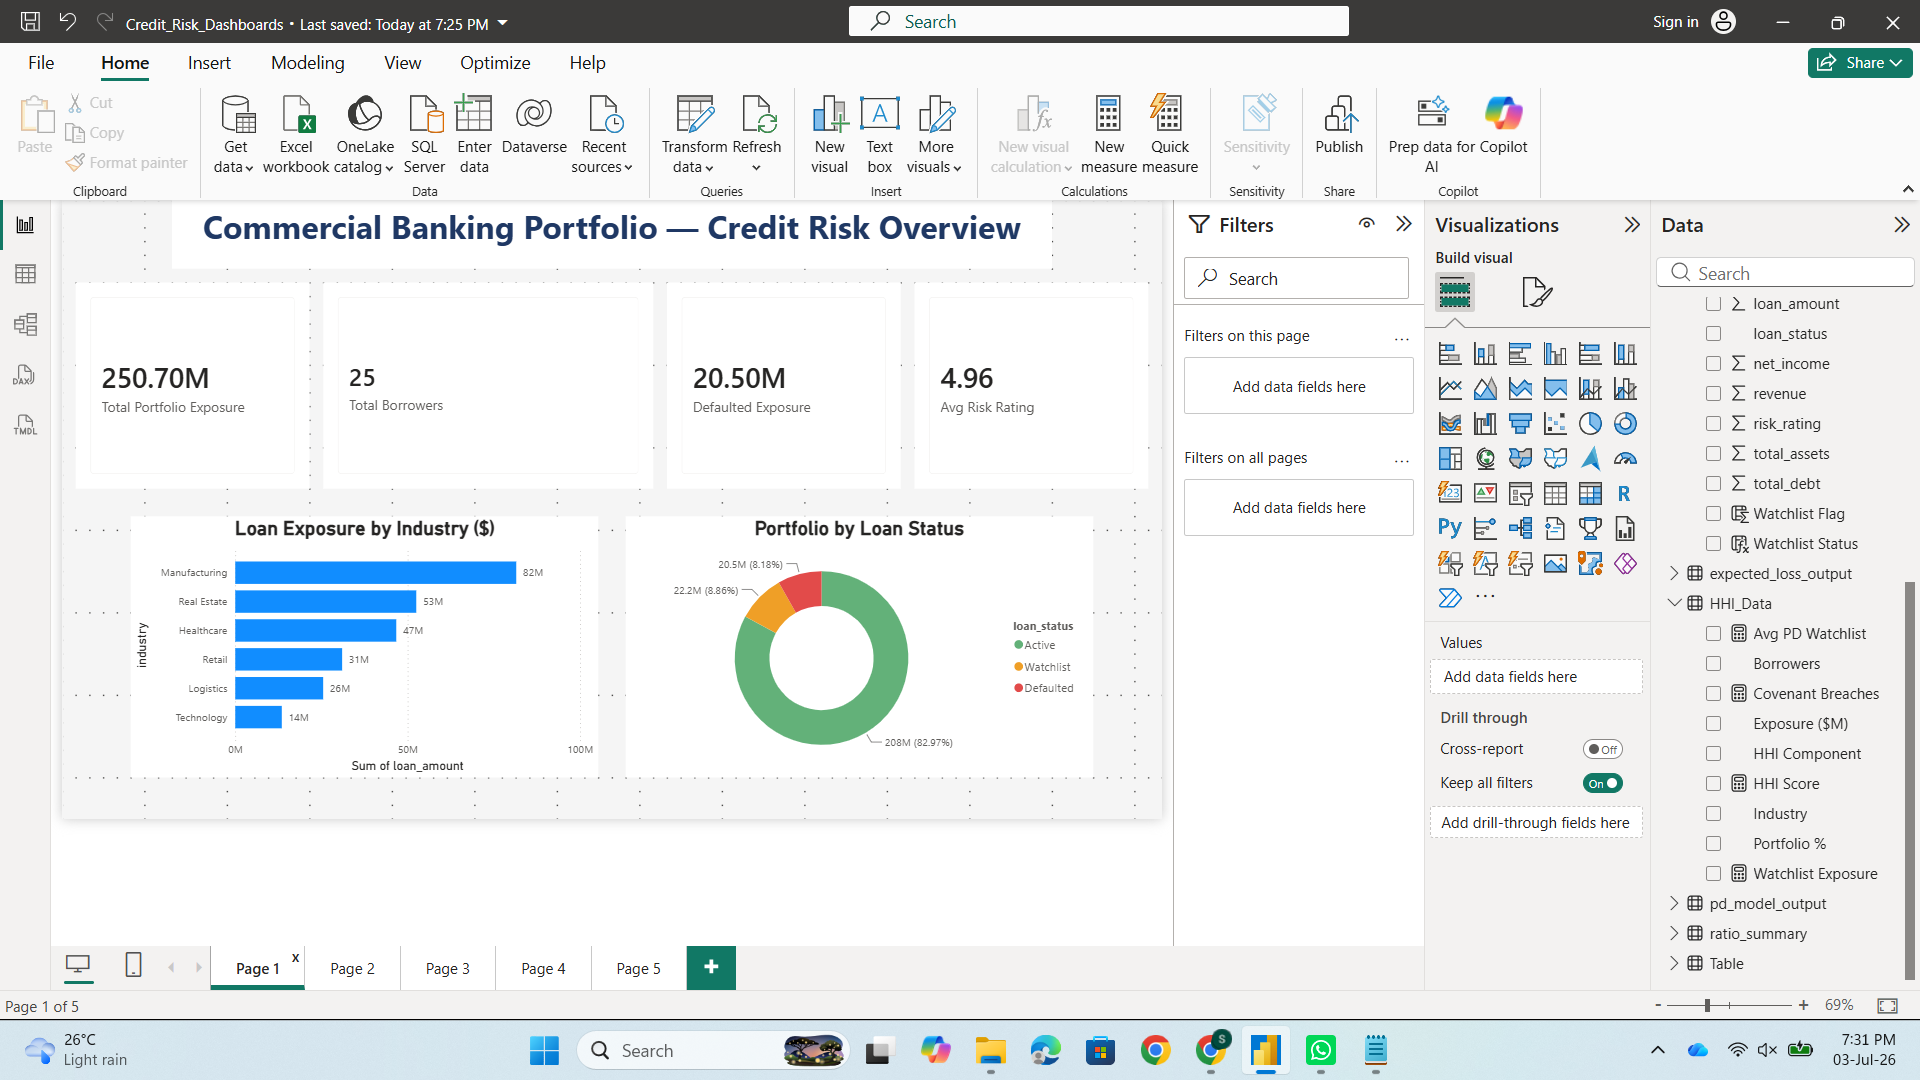

The dashboard page shown, as its layout file describes it:
{"tool":"powerbi","page":{"name":"Page 1","canvas":[1280,720],"ordinal":0},"visuals":[{"type":"textbox","box":[128,0,1024,80],"z":0},{"type":"cardVisual","fields":{"Data":["Sum(borrowers_data.loan_amount)"]},"box":[16,96,272,240],"z":1000},{"type":"cardVisual","fields":{"Data":["Count(borrowers_data.company_name)"]},"box":[304,96,384,240],"z":2000},{"type":"cardVisual","fields":{"Data":["Avg(borrowers_data.risk_rating)"]},"box":[992,96,272,240],"z":3000},{"type":"cardVisual","fields":{"Data":["Sum(borrowers_data.loan_amount)"]},"box":[704,96,272,240],"z":4000},{"type":"clusteredBarChart","title":"Loan Exposure by Industry ($)","fields":{"Category":["borrowers_data.industry"],"Y":["Sum(borrowers_data.loan_amount)"]},"box":[80,368,544,304],"z":5000},{"type":"donutChart","title":"Portfolio by Loan Status","fields":{"Category":["borrowers_data.loan_status"],"Y":["Sum(borrowers_data.loan_amount)"]},"box":[656,368,544,304],"z":6000}]}

Visuals, with their boxes on the page's 1280x720 design canvas (x1, y1, x2, y2). These are canvas units, not pixel positions in the 1920x1080 screenshot, which may show the page scaled, cropped or inside an application window:
textbox: (x1=128, y1=0, x2=1152, y2=80)
cardVisual - Sum(borrowers_data.loan_amount): (x1=16, y1=96, x2=288, y2=336)
cardVisual - Count(borrowers_data.company_name): (x1=304, y1=96, x2=688, y2=336)
cardVisual - Avg(borrowers_data.risk_rating): (x1=992, y1=96, x2=1264, y2=336)
cardVisual - Sum(borrowers_data.loan_amount): (x1=704, y1=96, x2=976, y2=336)
"Loan Exposure by Industry ($)" clusteredBarChart: (x1=80, y1=368, x2=624, y2=672)
"Portfolio by Loan Status" donutChart: (x1=656, y1=368, x2=1200, y2=672)
